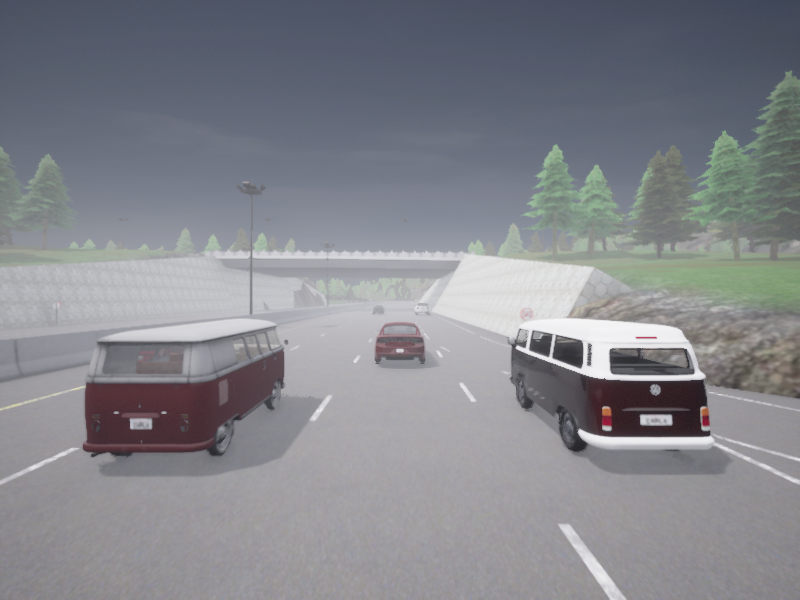vehicle: (82, 319, 288, 457), (508, 318, 714, 452), (374, 322, 425, 363), (414, 302, 428, 314), (373, 305, 384, 313)
